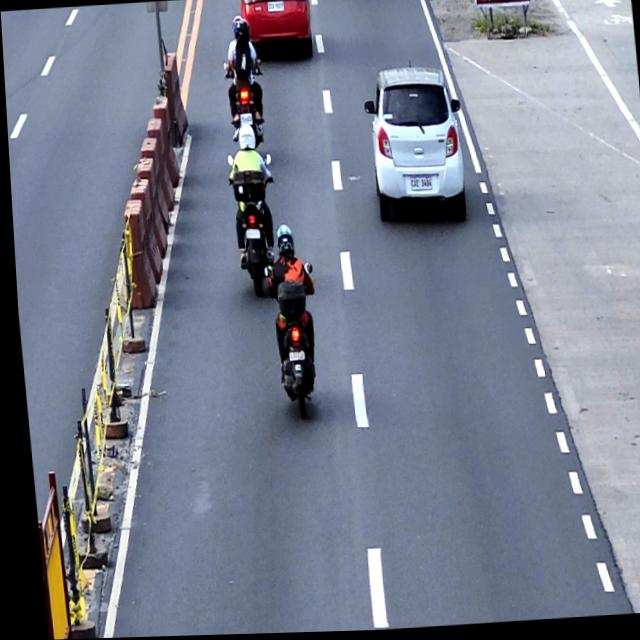Car: (359, 65, 469, 234), (239, 0, 315, 65)
License-Plate: (407, 178, 430, 194), (266, 1, 284, 15), (242, 228, 257, 243), (283, 351, 300, 364), (237, 114, 251, 125)
Motorcycle: (260, 263, 323, 426), (223, 151, 281, 300), (221, 53, 266, 152)
